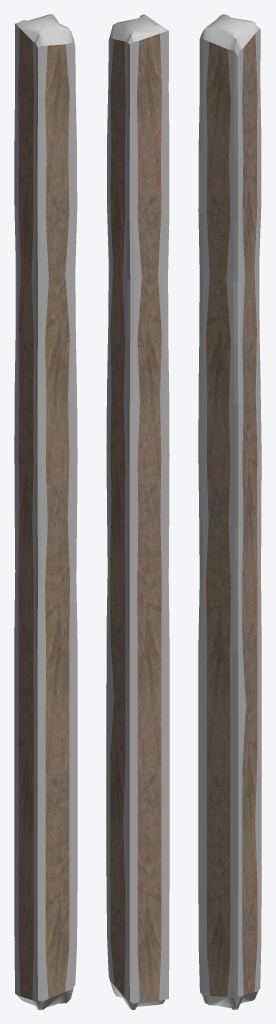
Rendered from WoodBeamA.fbx.
3 renders of one model, left to right at view 1: azimuth 30°, elevation 25°; view 2: azimuth 210°, elevation 25°; view 3: azimuth 330°, elevation 25°, orthographic.
Visible parts, largest first — view 1: WoodBeamA; view 2: WoodBeamA; view 3: WoodBeamA.
Part boxes in pixels (x1,y1,x2,y2): WoodBeamA: [14, 14, 77, 1009]; WoodBeamA: [106, 14, 169, 1009]; WoodBeamA: [198, 14, 261, 1009].
Bounding box in the file's own units: 16 × 374 × 16.
